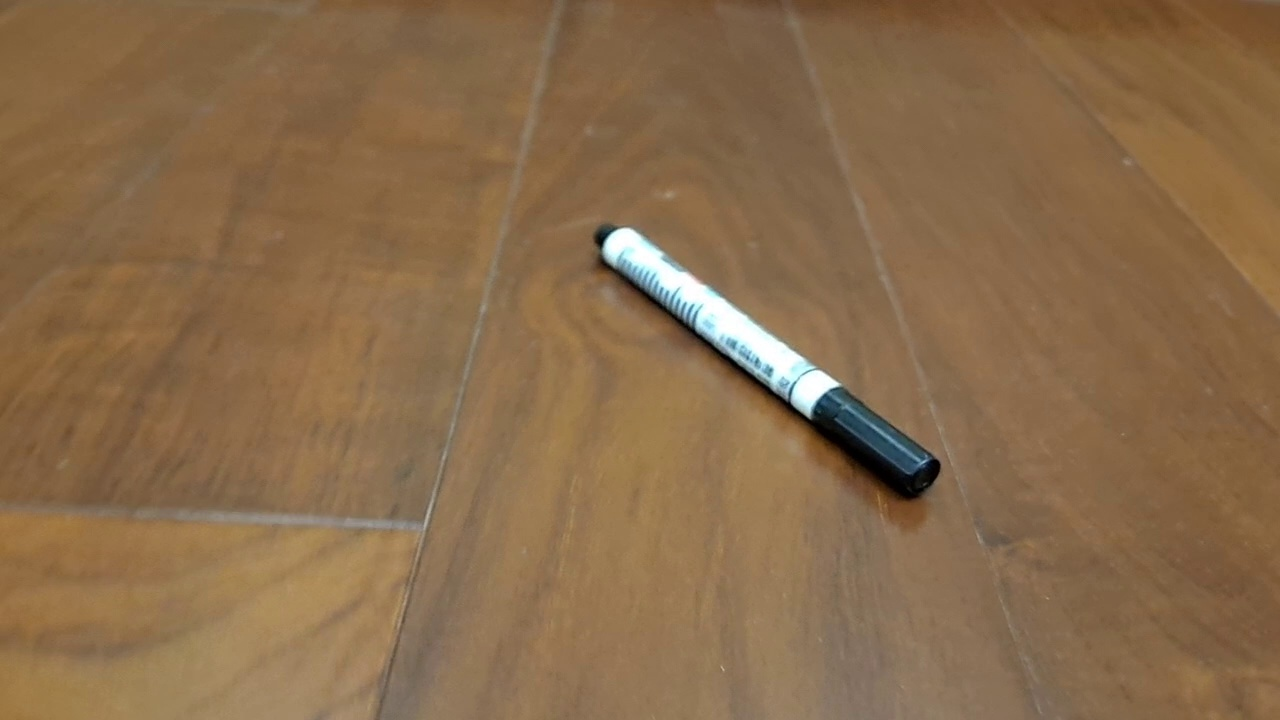pen: (592, 223, 942, 501)
